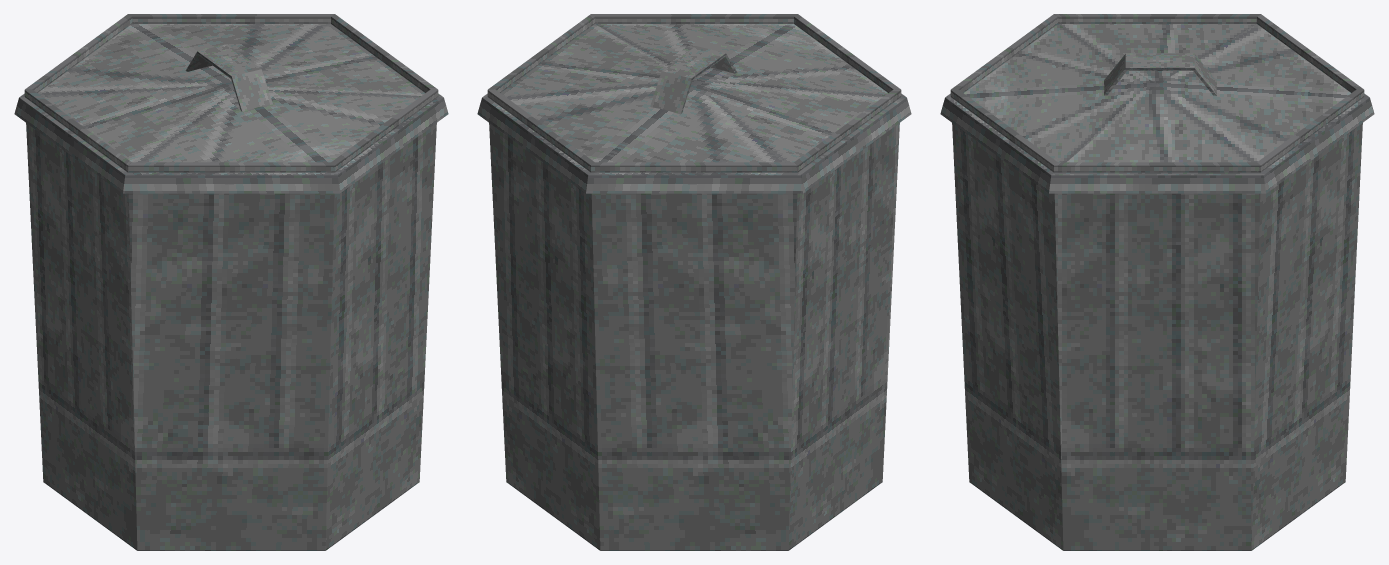
Rendered from metaltrashcan_closed.glb.
3 views of the same model, side by side, from view 1: azimuth 30°, elevation 25°; view 2: azimuth 150°, elevation 25°; view 3: azimuth 270°, elevation 25° (orthographic).
Parts seen in each view (by area): view 1: metaltrashcan_closed; view 2: metaltrashcan_closed; view 3: metaltrashcan_closed.
Part boxes in pixels (box(x1,y1,x2,y2)): metaltrashcan_closed: box(14, 14, 448, 550); metaltrashcan_closed: box(477, 14, 911, 550); metaltrashcan_closed: box(940, 14, 1374, 550).
Size of the model in its own units: 0.7618 by 0.9412 by 0.8797.
Materials: 1 (1 with a texture image).
